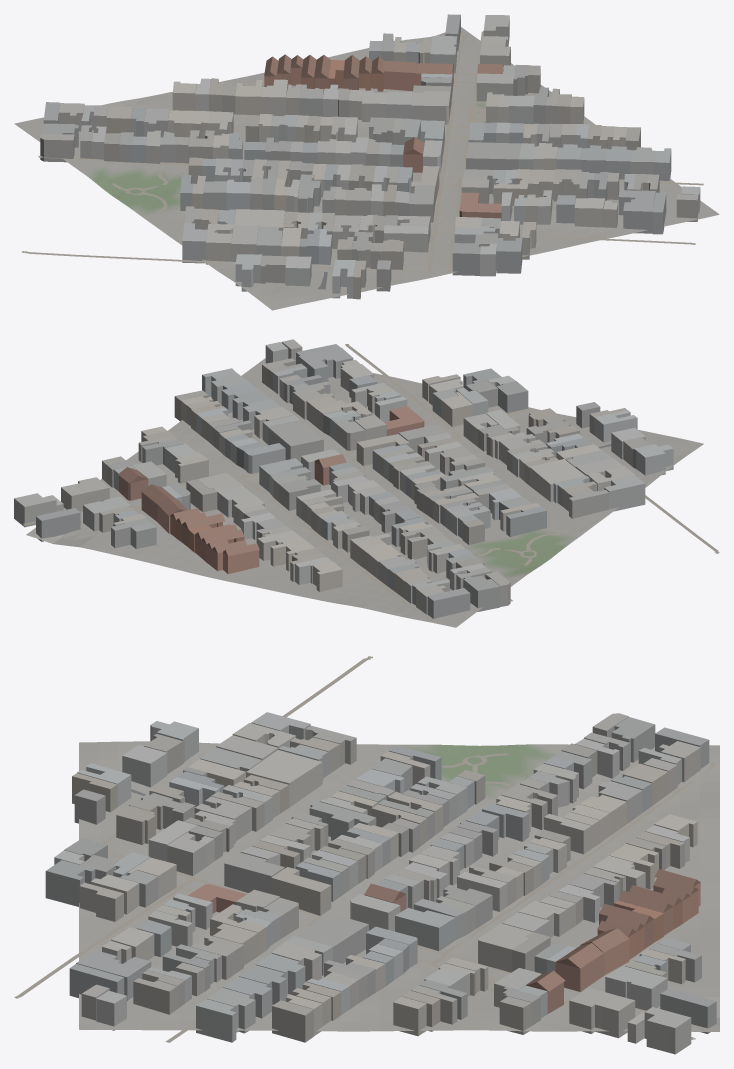
File: tile_-8_-7.glb
3 views of the same model, one above another, from view 1: azimuth 30°, elevation 25°; view 2: azimuth 150°, elevation 25°; view 3: azimuth 270°, elevation 25° (orthographic). The views are drawn at different scales.
Parts seen in each view (by area): view 1: buildings, terrain, paths; view 2: buildings, terrain, paths; view 3: buildings, terrain, paths.
Boxes of the visible parts, x1,y1,x2,y2 form: buildings: (40, 14, 700, 299); terrain: (14, 27, 719, 310); paths: (21, 31, 703, 273); buildings: (14, 339, 673, 618); terrain: (26, 358, 703, 627); paths: (23, 344, 719, 620); buildings: (45, 712, 716, 1054); terrain: (79, 741, 719, 1031); paths: (14, 656, 716, 1042).
Size of the model in its own units: 349 by 20.46 by 282.
